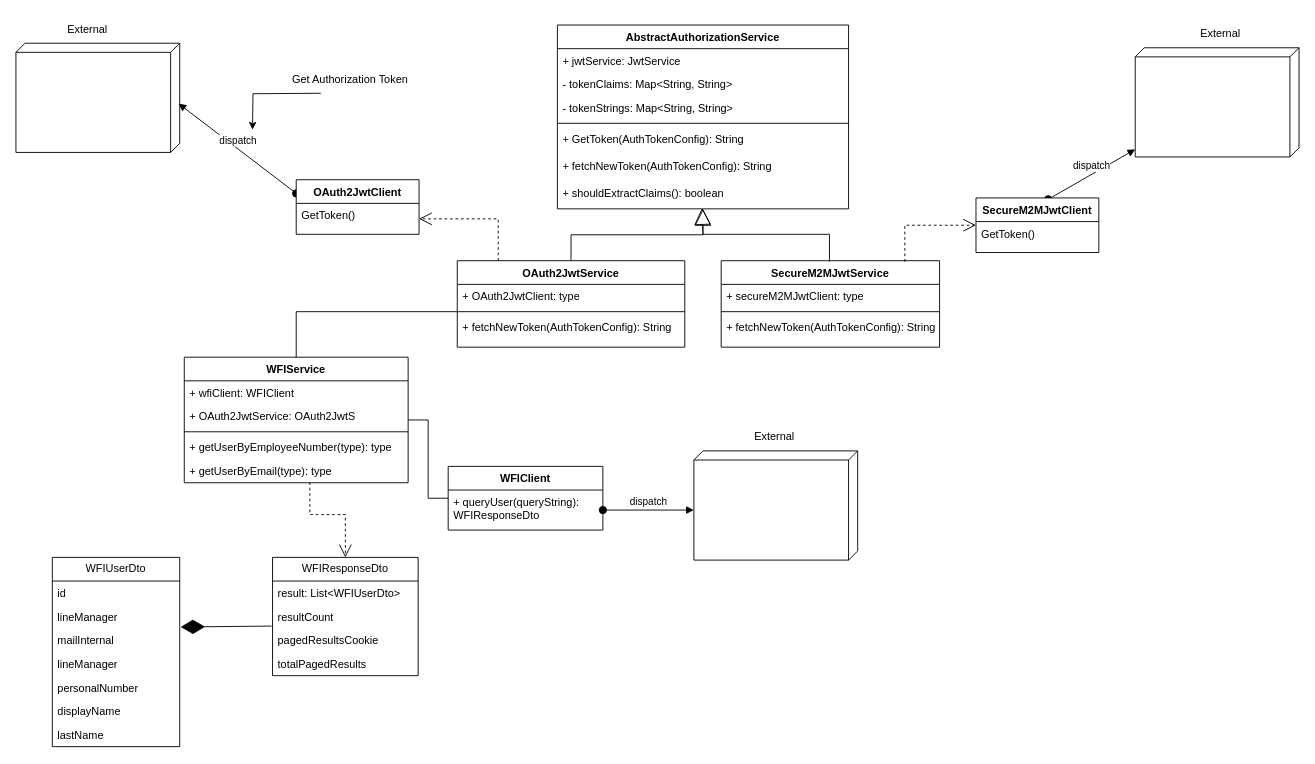
Some shapes in this 1315 by 764 pixel diagram are drawn without their labels. The shapes that lost their labels are listed below. From the top down, each one's centre as x and y in pixels, then its label:
At (x=97, y=97): "Swisscom Authorization API".
At (x=1216, y=102): "SecureM2M API".
At (x=775, y=505): "Work Force Identity API".
